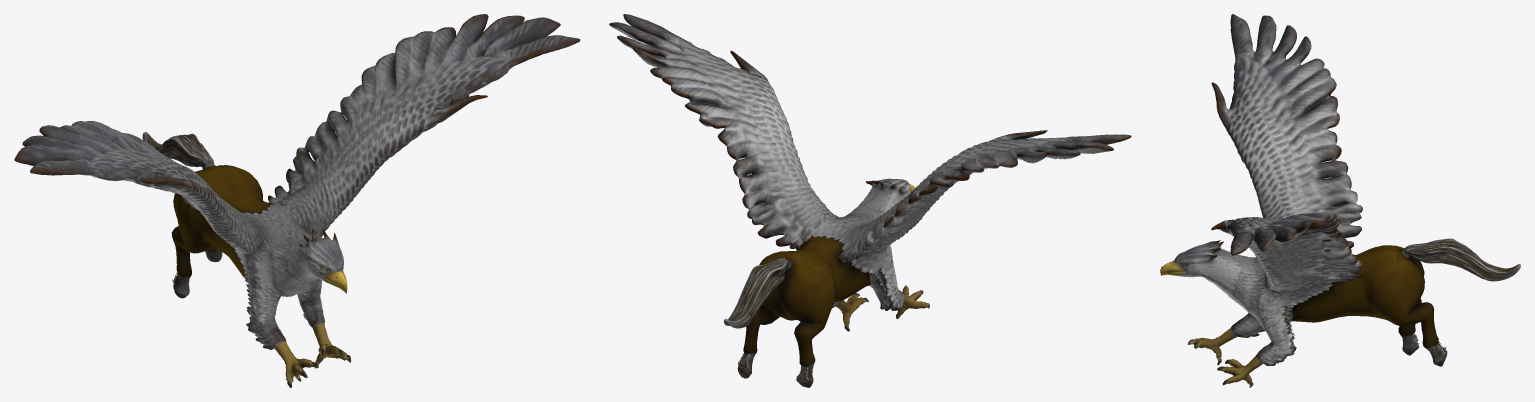
The model's file is MZ4250 - Hippogriff.glb.
3 renders of one model, left to right at view 1: azimuth 30°, elevation 25°; view 2: azimuth 150°, elevation 25°; view 3: azimuth 270°, elevation 25°, orthographic. The views are drawn at different scales.
Parts seen in each view (by area): view 1: Hippogriff Updated posed.001; view 2: Hippogriff Updated posed.001; view 3: Hippogriff Updated posed.001.
Part boxes in pixels (box(x1,y1,x2,y2)): Hippogriff Updated posed.001: box(14, 14, 580, 387); Hippogriff Updated posed.001: box(609, 14, 1131, 387); Hippogriff Updated posed.001: box(1160, 14, 1520, 387).
Bounding box in the file's own units: 82 × 40.47 × 52.47.
1 material, 1 textured.
